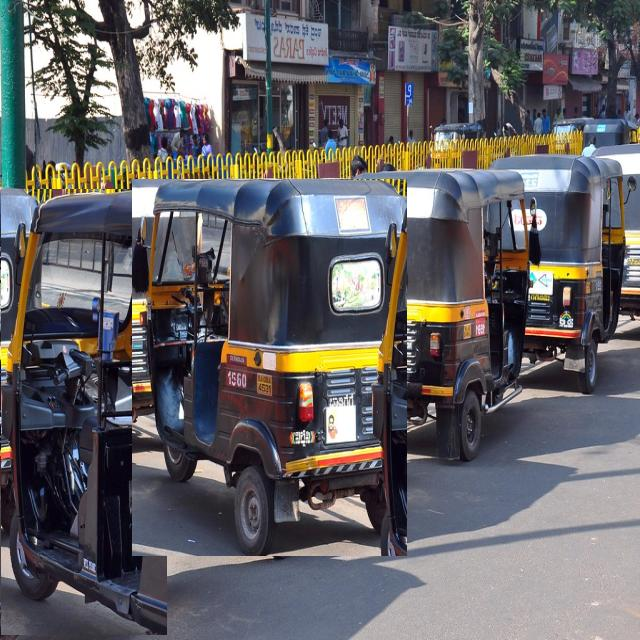autorickshaw: (132, 179, 406, 556), (1, 189, 166, 635), (365, 169, 529, 459), (490, 156, 625, 393)
